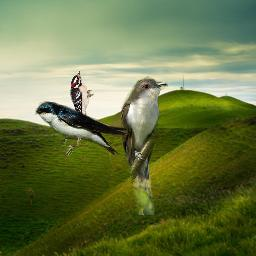Cuckoo: (121, 74, 168, 215)
Swallow: (35, 101, 133, 159)
Woodpecker: (70, 70, 94, 122)
